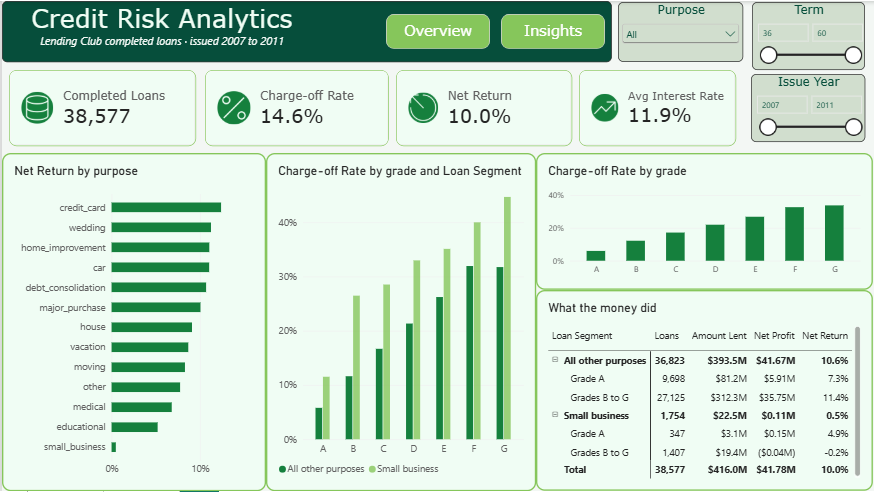

The dashboard page shown, as its layout file describes it:
{"tool":"powerbi","page":{"name":"Page 1","canvas":[1280,720],"ordinal":0},"visuals":[{"type":"cardVisual","fields":{"Data":["_Measures.Loans"]},"box":[10.3,101.4,274.8,111.7],"z":0},{"type":"cardVisual","fields":{"Data":["_Measures.Charge-off Rate"]},"box":[298.3,101.4,270.4,111.7],"z":1000},{"type":"cardVisual","fields":{"Data":["_Measures.Net Return"]},"box":[578.9,101.4,258.6,111.7],"z":2000},{"type":"cardVisual","fields":{"Data":["_Measures.Avg Interest Rate"]},"box":[847.8,101.4,230.7,111.7],"z":3000},{"type":"slicer","title":"Issue Year","fields":{"Values":["loans.issue_year"]},"box":[1100.6,107.3,167.5,99.9],"z":4000},{"type":"slicer","title":"Term","fields":{"Values":["loans.term_months"]},"box":[1102,1.5,166,99.9],"z":5000},{"type":"slicer","title":"Purpose","fields":{"Values":["loans.purpose"]},"box":[905.1,1.5,183.7,88.2],"z":6000},{"type":"columnChart","fields":{"Category":["loans.grade"],"Y":["_Measures.Charge-off Rate"]},"box":[784.7,223.3,495.2,201.3],"z":7000},{"type":"clusteredColumnChart","fields":{"Category":["loans.grade"],"Series":["loans.Loan Segment"],"Y":["_Measures.Charge-off Rate"]},"box":[387.9,223.3,396.7,496.7],"z":8000},{"type":"barChart","fields":{"Category":["loans.purpose"],"Y":["_Measures.Net Return"]},"box":[0,223.3,387.9,496.7],"z":9000},{"type":"pivotTable","title":"What the money did","fields":{"Rows":["loans.Loan Segment","loans.Grade Group"],"Values":["_Measures.Loans","_Measures.Amount Lent","_Measures.Net Profit","_Measures.Net Return"]},"box":[784.7,424.7,495.2,295.3],"z":10000},{"type":"textbox","box":[0,0,896.3,90],"z":12000},{"type":"actionButton","box":[564.2,19.1,152.8,51.4],"z":12001},{"type":"actionButton","box":[733.2,19.1,152.8,51.4],"z":12002}]}

Visuals, with their boxes in screenshot pixels (x1, y1, x2, y2), scaled from the page's 1280x720 canvas onto the 874x492 screenshot:
cardVisual - _Measures.Loans: <bbox>7, 69, 195, 146</bbox>
cardVisual - _Measures.Charge-off Rate: <bbox>204, 69, 388, 146</bbox>
cardVisual - _Measures.Net Return: <bbox>395, 69, 572, 146</bbox>
cardVisual - _Measures.Avg Interest Rate: <bbox>579, 69, 736, 146</bbox>
"Issue Year" slicer: <bbox>752, 73, 866, 142</bbox>
"Term" slicer: <bbox>752, 1, 866, 69</bbox>
"Purpose" slicer: <bbox>618, 1, 743, 61</bbox>
columnChart - loans.grade x _Measures.Charge-off Rate: <bbox>536, 153, 873, 290</bbox>
clusteredColumnChart - loans.grade x loans.Loan Segment: <bbox>265, 153, 536, 491</bbox>
barChart - loans.purpose x _Measures.Net Return: <bbox>0, 153, 265, 491</bbox>
"What the money did" pivotTable: <bbox>536, 290, 873, 491</bbox>
textbox: <bbox>0, 0, 612, 62</bbox>
actionButton: <bbox>385, 13, 490, 48</bbox>
actionButton: <bbox>501, 13, 605, 48</bbox>
